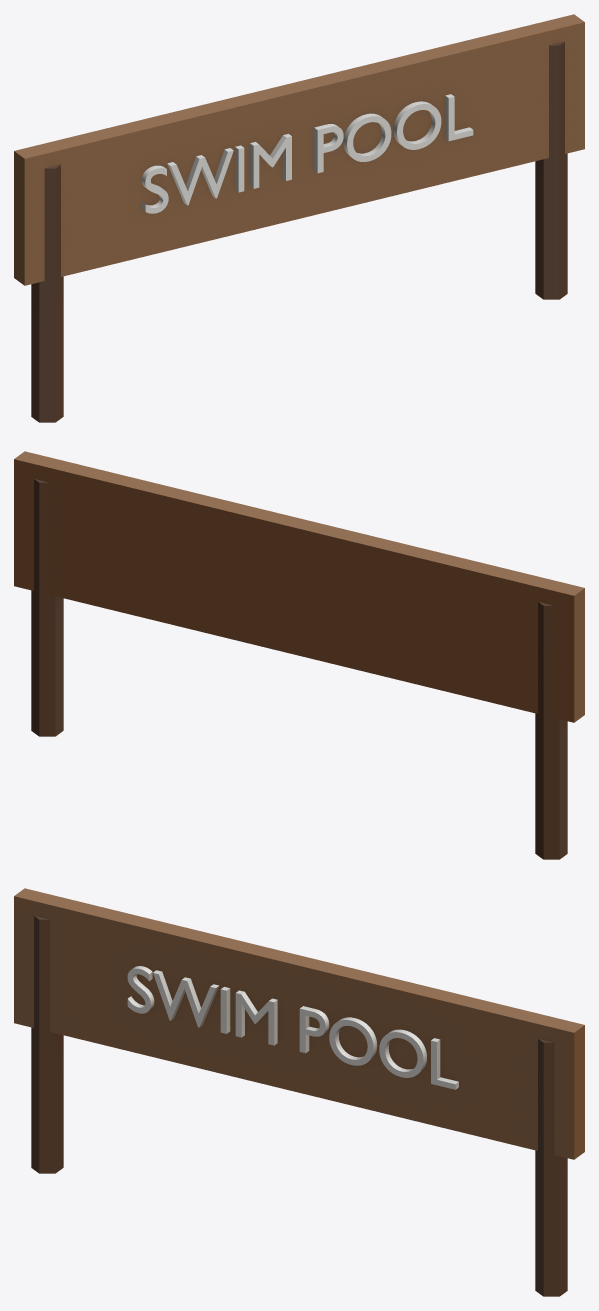
File: area_pool_0_1.fbx
The picture shows the model from 3 angles, top to bottom: view 1: azimuth 30°, elevation 25°; view 2: azimuth 150°, elevation 25°; view 3: azimuth 330°, elevation 25°; orthographic projection.
Visible parts, largest first — view 1: area_pool_0_1_body; view 2: area_pool_0_1_body; view 3: area_pool_0_1_body.
Boxes of the visible parts, bbox=[...] form: area_pool_0_1_body: bbox=[14, 14, 584, 422]; area_pool_0_1_body: bbox=[14, 451, 584, 859]; area_pool_0_1_body: bbox=[14, 888, 584, 1296].
Bounding box in the file's own units: 3000 × 1375 × 158.
1 material, 1 textured.
